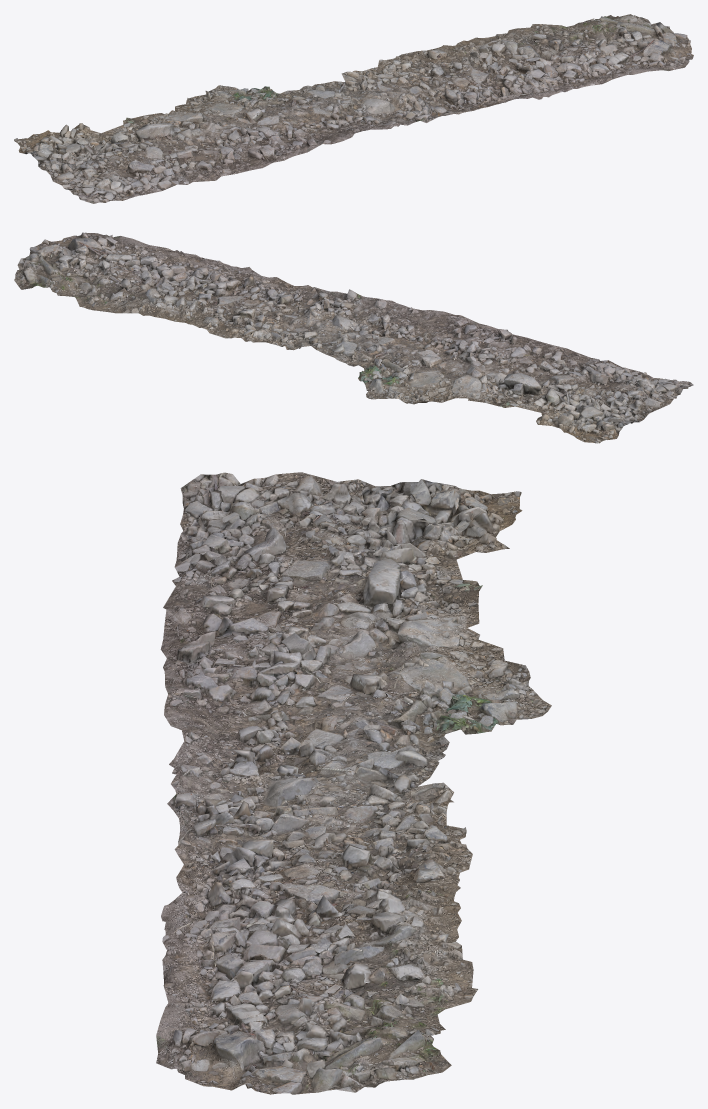
The model's file is SM_PathRocky_01_05_rocks.fbx.
3 views of the same model, one above another, from view 1: azimuth 30°, elevation 25°; view 2: azimuth 150°, elevation 25°; view 3: azimuth 270°, elevation 25° (orthographic). The views are drawn at different scales.
Parts seen in each view (by area): view 1: sm_PathRocky_01_05_rocks_LOD0; view 2: sm_PathRocky_01_05_rocks_LOD0; view 3: sm_PathRocky_01_05_rocks_LOD0.
Boxes of the visible parts, <box> form: sm_PathRocky_01_05_rocks_LOD0: <box>14,14,693,203</box>; sm_PathRocky_01_05_rocks_LOD0: <box>14,232,693,443</box>; sm_PathRocky_01_05_rocks_LOD0: <box>156,472,551,1094</box>.
Size of the model in its own units: 221 by 810 by 24.26.
